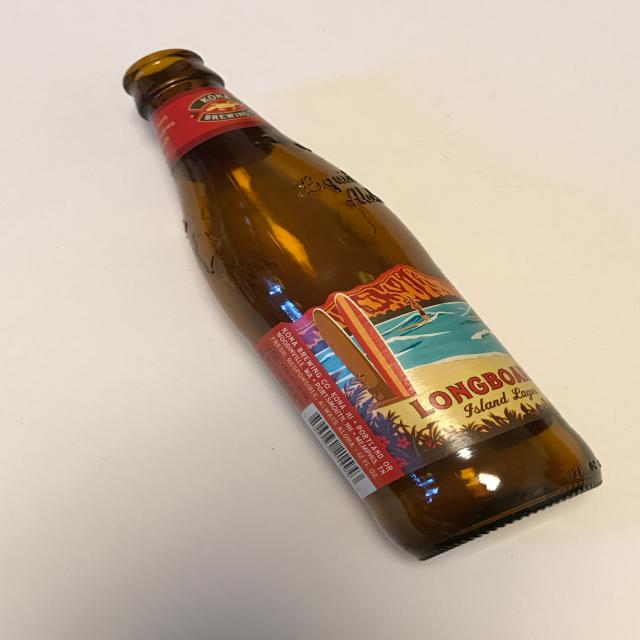glass: (122, 48, 604, 562)
